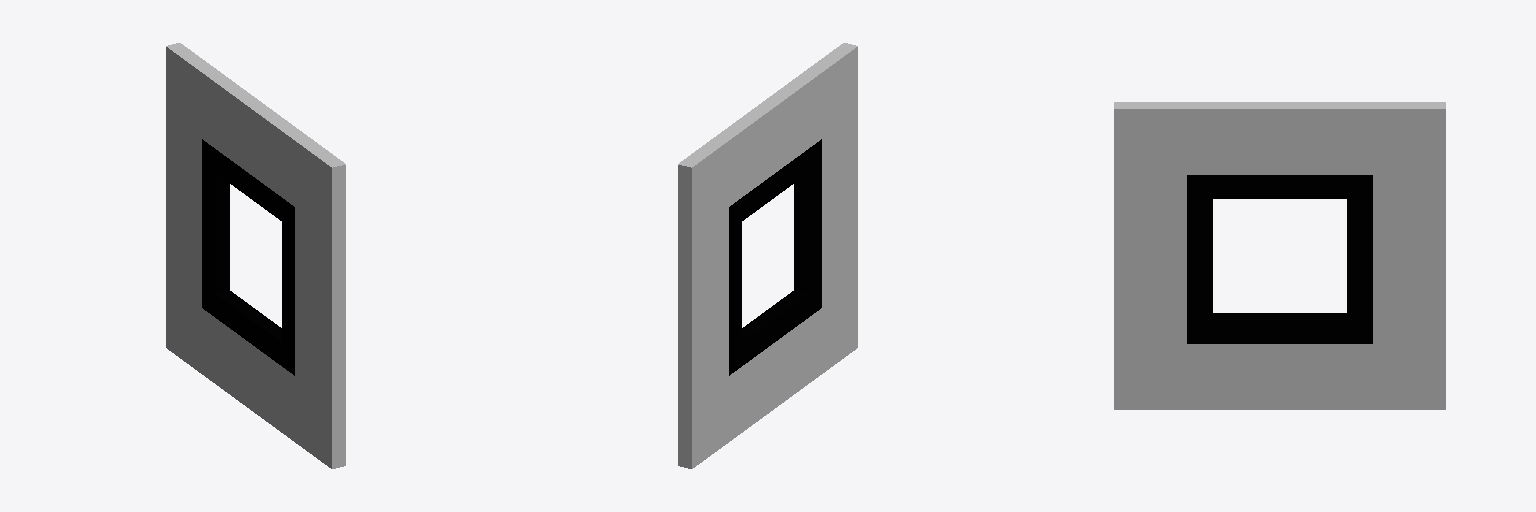
The model's file is Window.obj.
3 renders of one model, left to right at view 1: azimuth 30°, elevation 25°; view 2: azimuth 150°, elevation 25°; view 3: azimuth 270°, elevation 25°, orthographic.
Visible parts, largest first — view 1: Plane; view 2: Plane; view 3: Plane.
Boxes of the visible parts, <box> form: Plane: <box>166,43,345,468</box>; Plane: <box>678,43,857,468</box>; Plane: <box>1114,102,1445,409</box>.
Bounding box in the file's own units: 0.5 × 10 × 10.